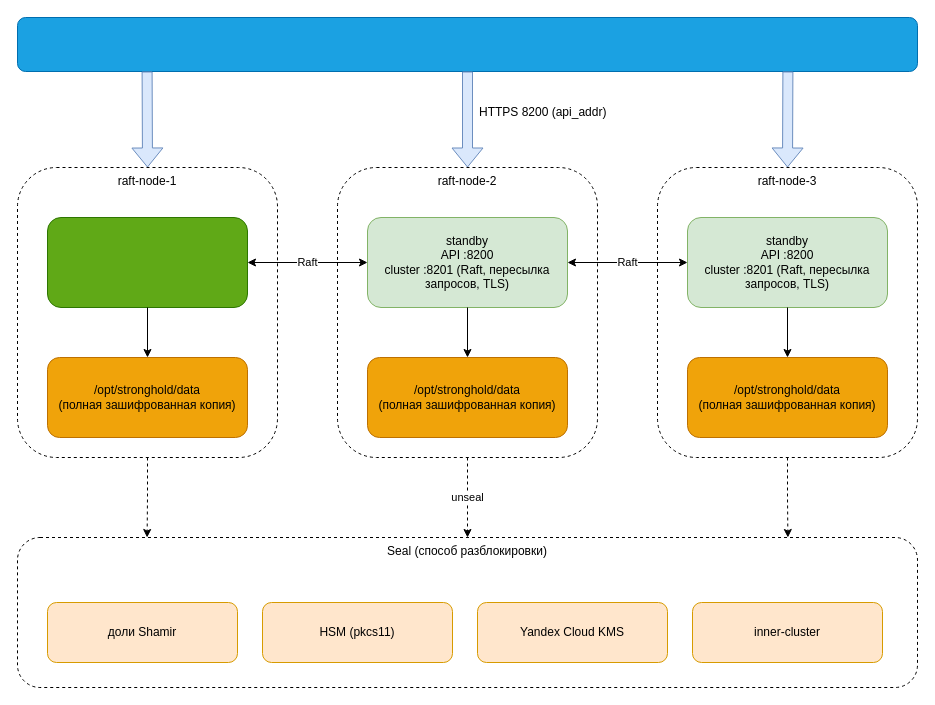
The diagram is 935 pixels wide and 705 high, and some of its shapes have lost their labels. Here are the shapes that lost their labels. From the top down, the centre of each, then its label:
the point at 467,44: Клиенты, CLI, приложения
the point at 147,262: active API :8200 cluster :8201 (Raft, пересылка запросов, TLS)
